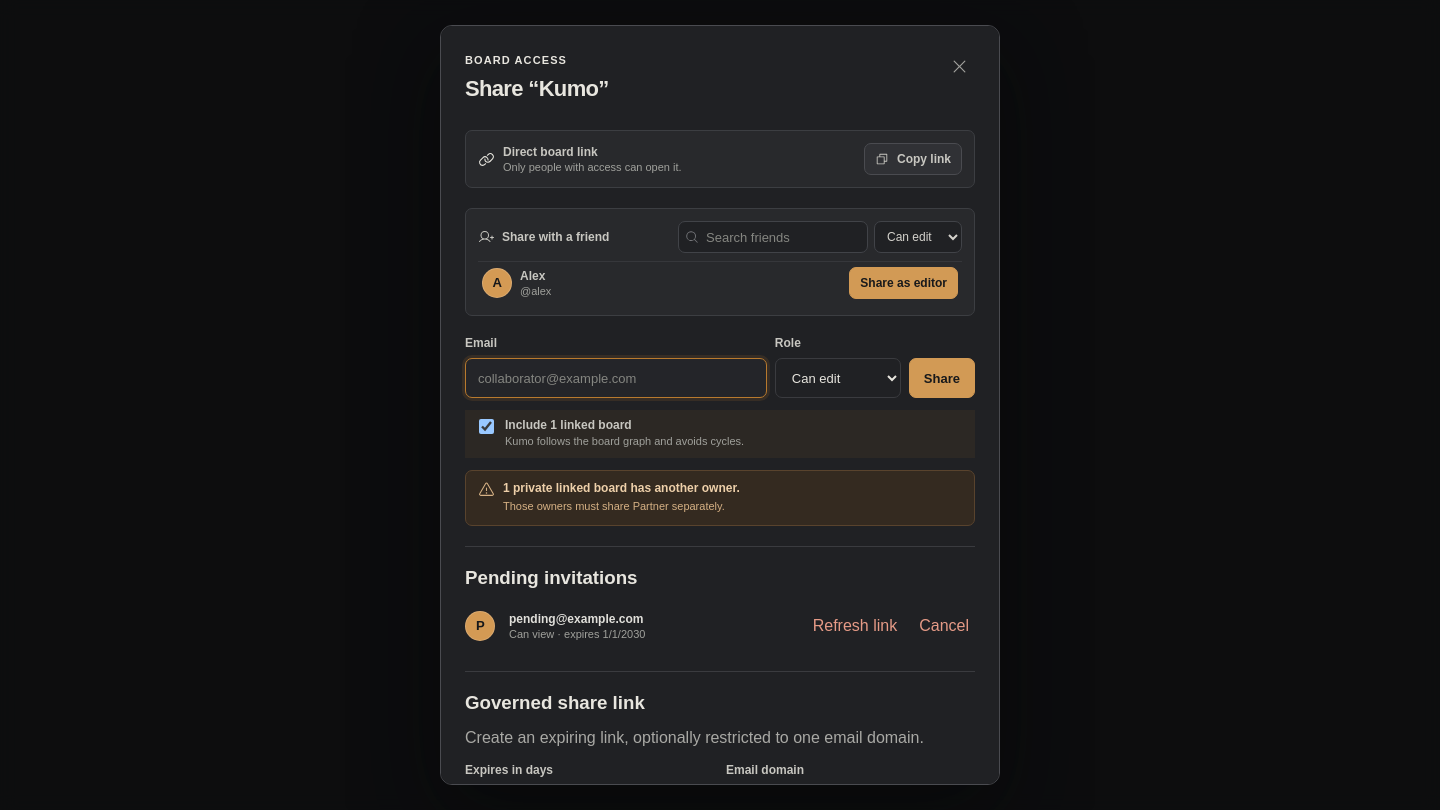
ShareDialog › reports governed-action errors instead of leaking rejected promises
Click the button "Refresh link". click: (855, 626)
box: [807,610,903,642]
(page scrolled)
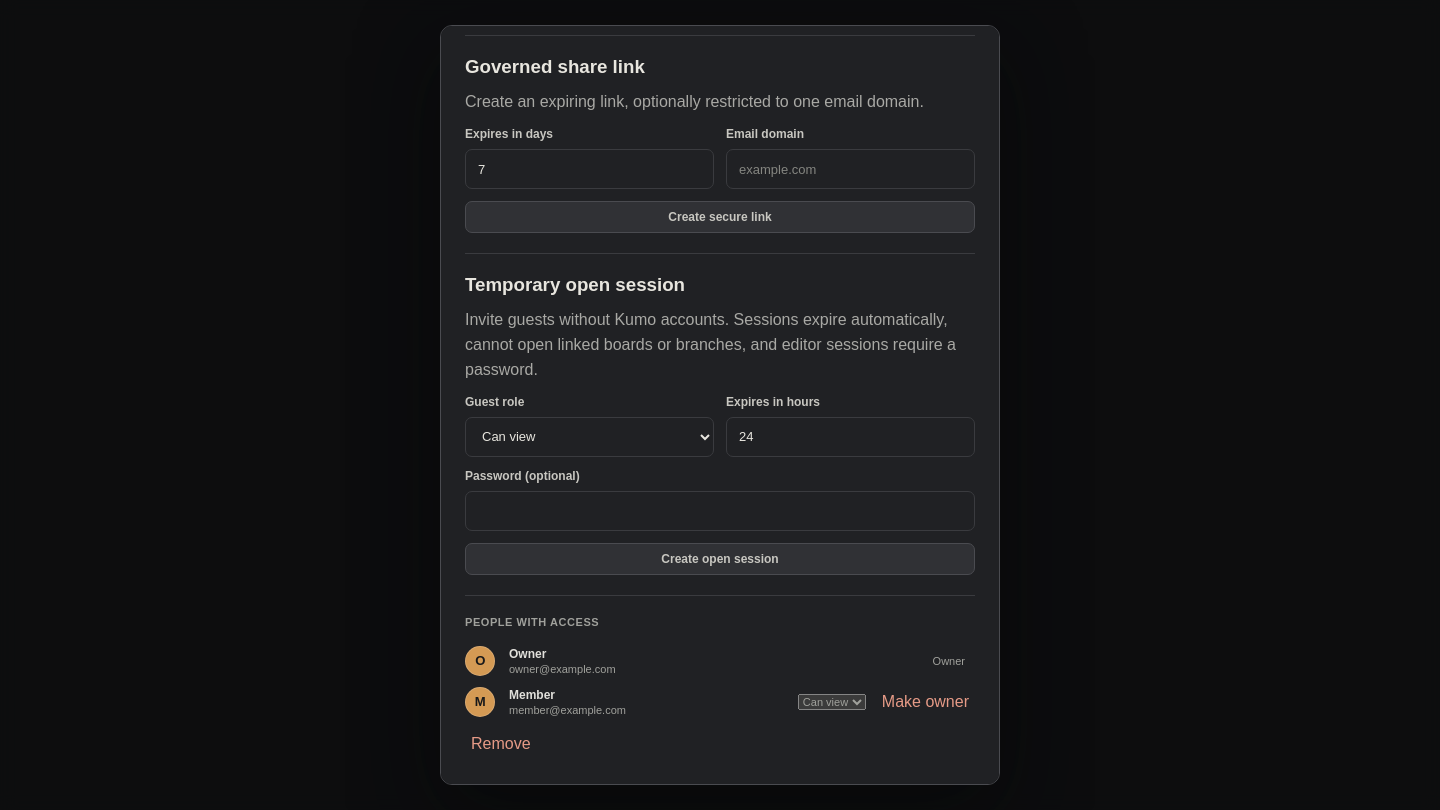
Click the button "Make owner". click: (925, 702)
box: [876,686,975,718]
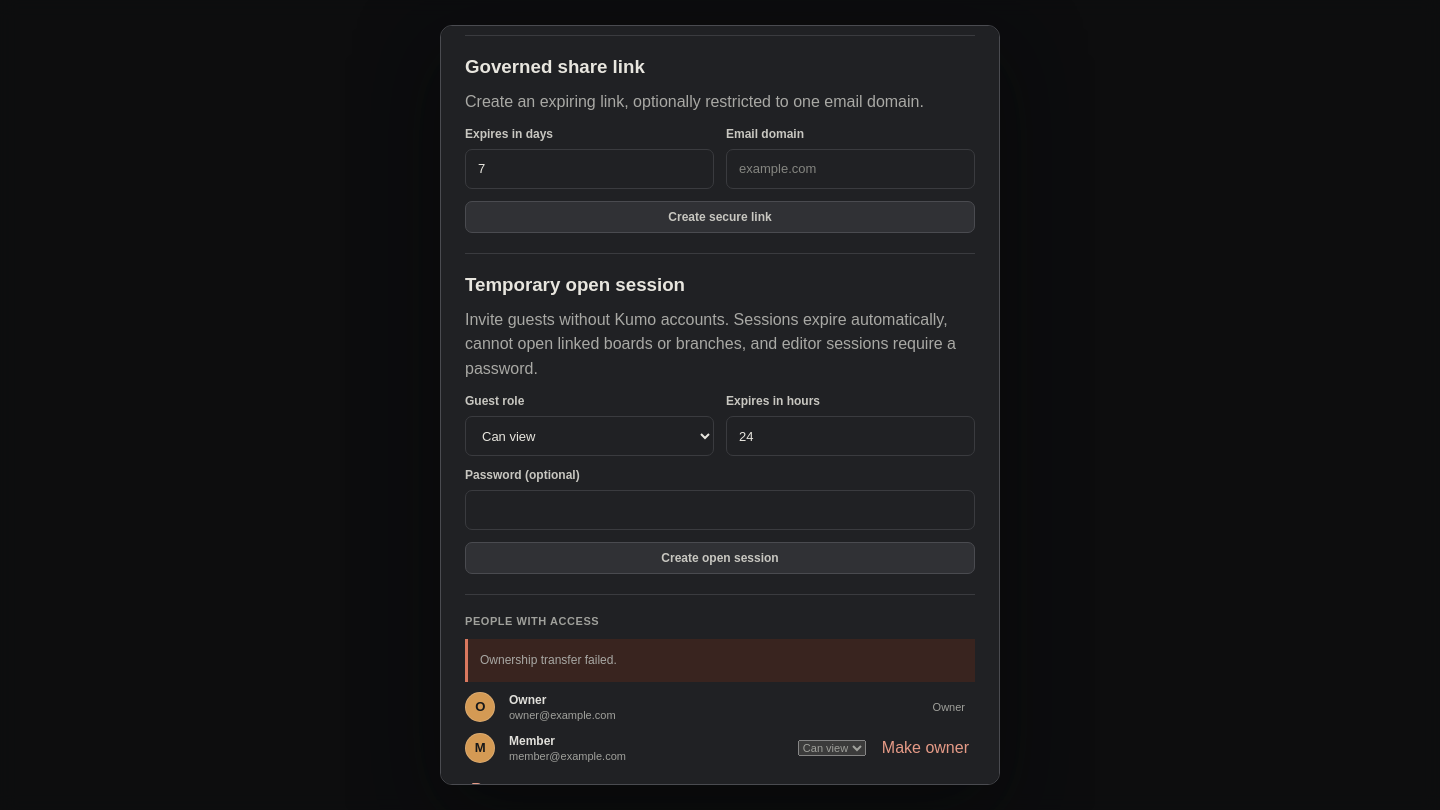
Now the message shows "Ownership transfer failed", box [480,653,617,667]
